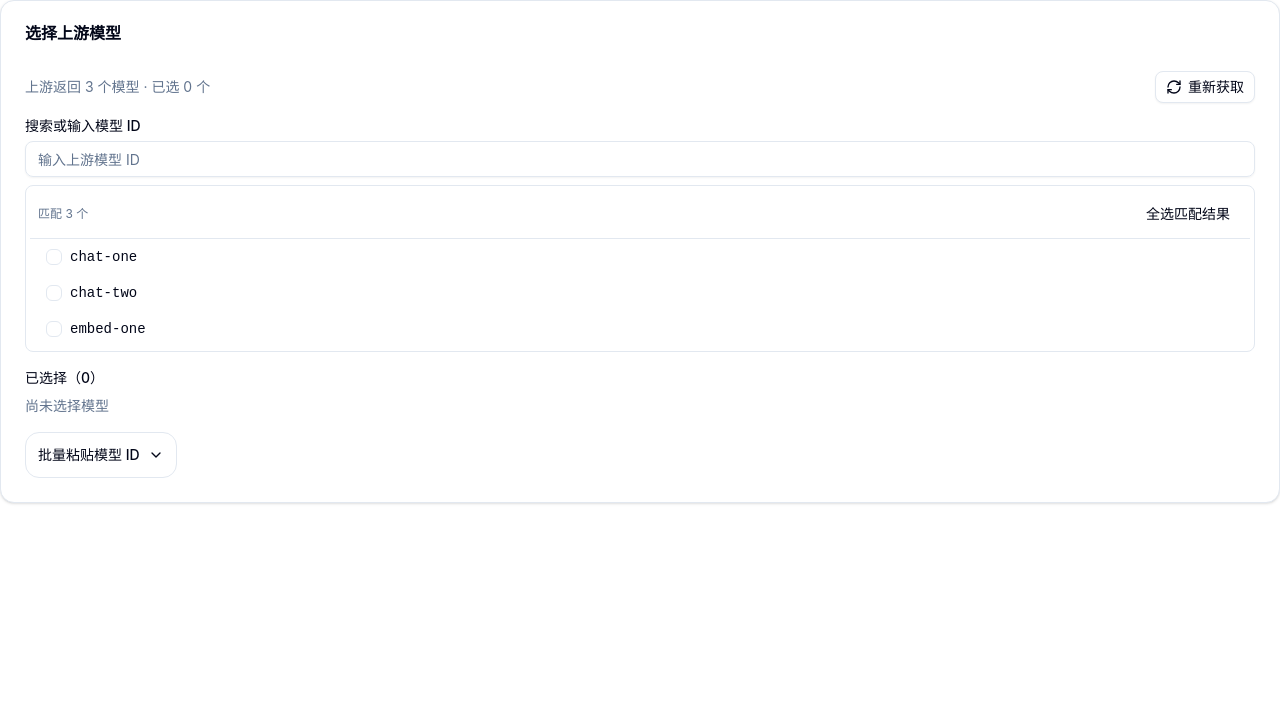
Test: shows fetched models without a search and preserves the filter while selecting multiple models
expect the button "chat-one" is shown: met, box [30,239,1250,275]
expect the text "上游返回 3 个模型 · 已选 0 个" is shown: met, box [25,77,210,97]
Type "chat" into the field labelled "搜索或输入模型 ID" at (640, 159), box [25,141,1255,177]
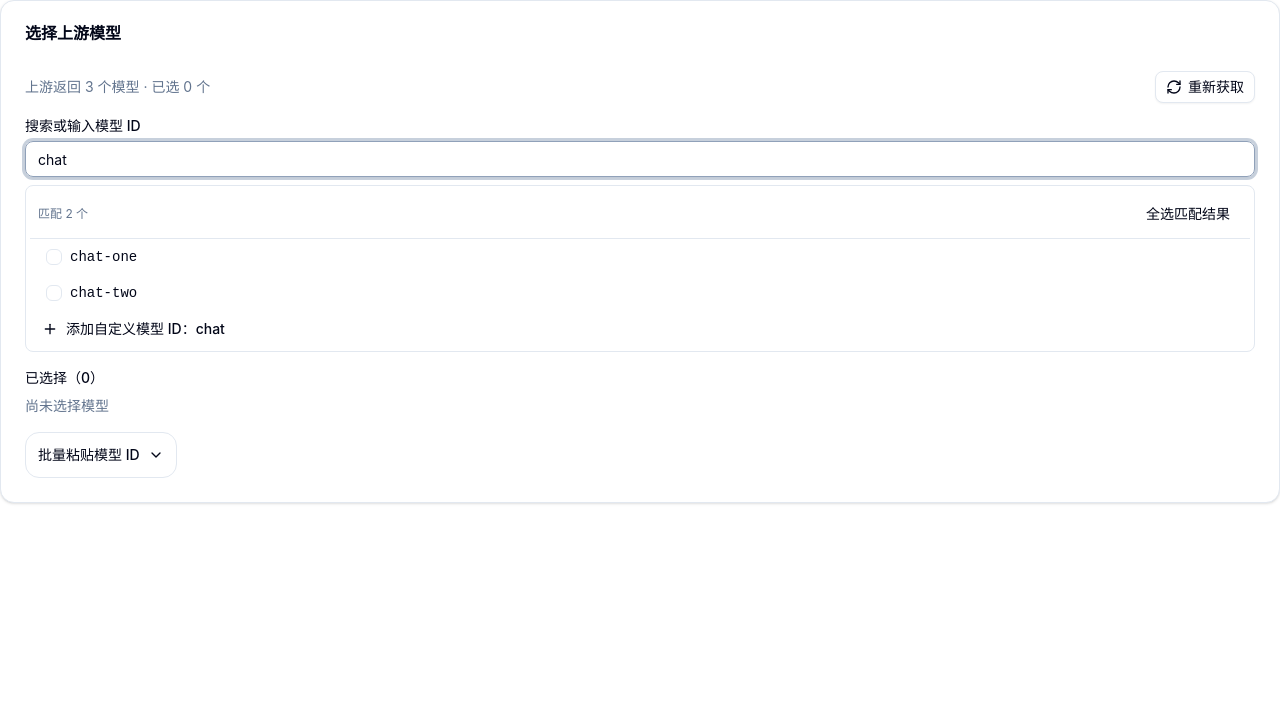
Click the button "chat-one" at (104, 257), box [30,239,1250,275]
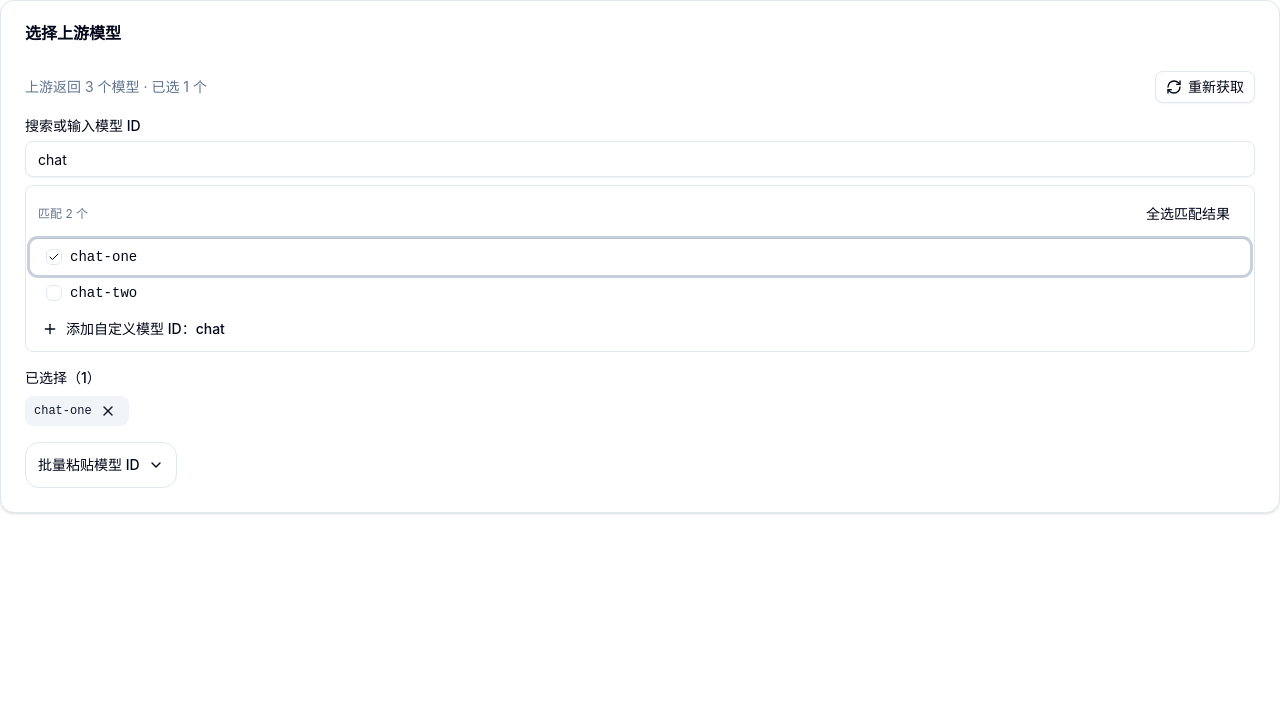
Click the button "全选匹配结果" at (1188, 214), box [1134,198,1242,230]
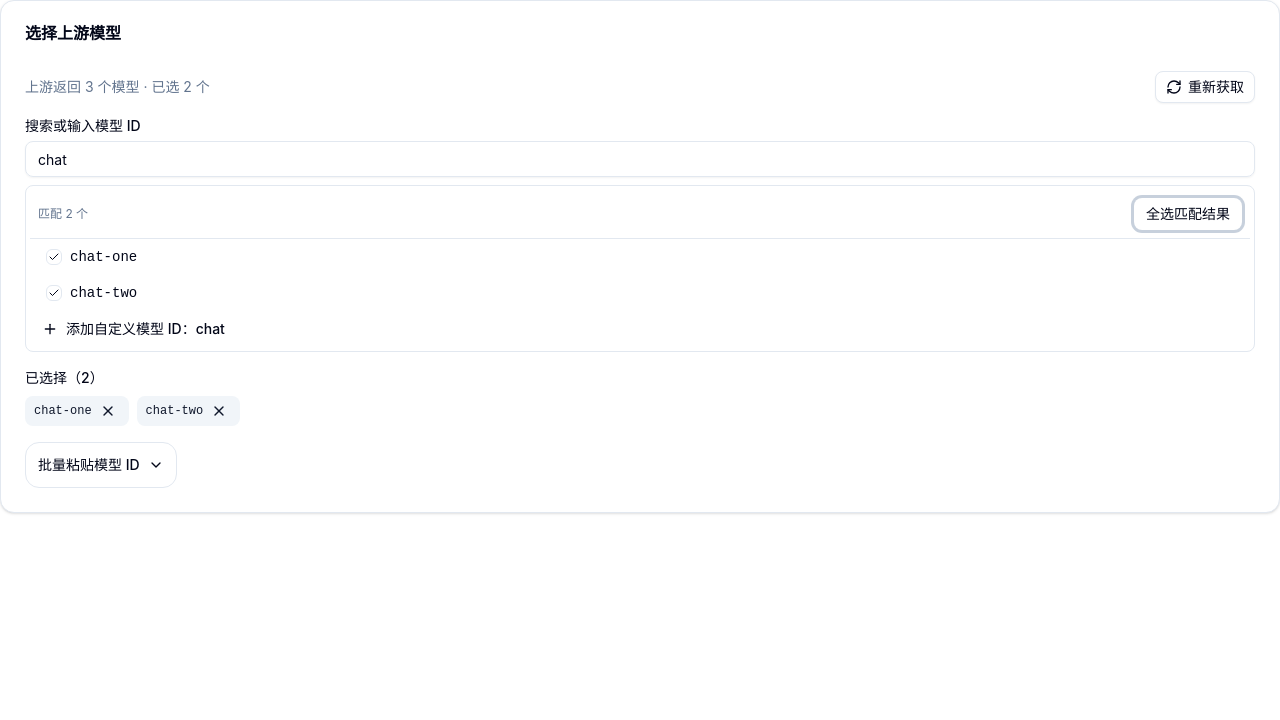
expect the text "上游返回 3 个模型 · 已选 2 个" is shown: met, box [25,77,210,97]
Click the button "chat-one" at (104, 257), box [30,239,1250,275]
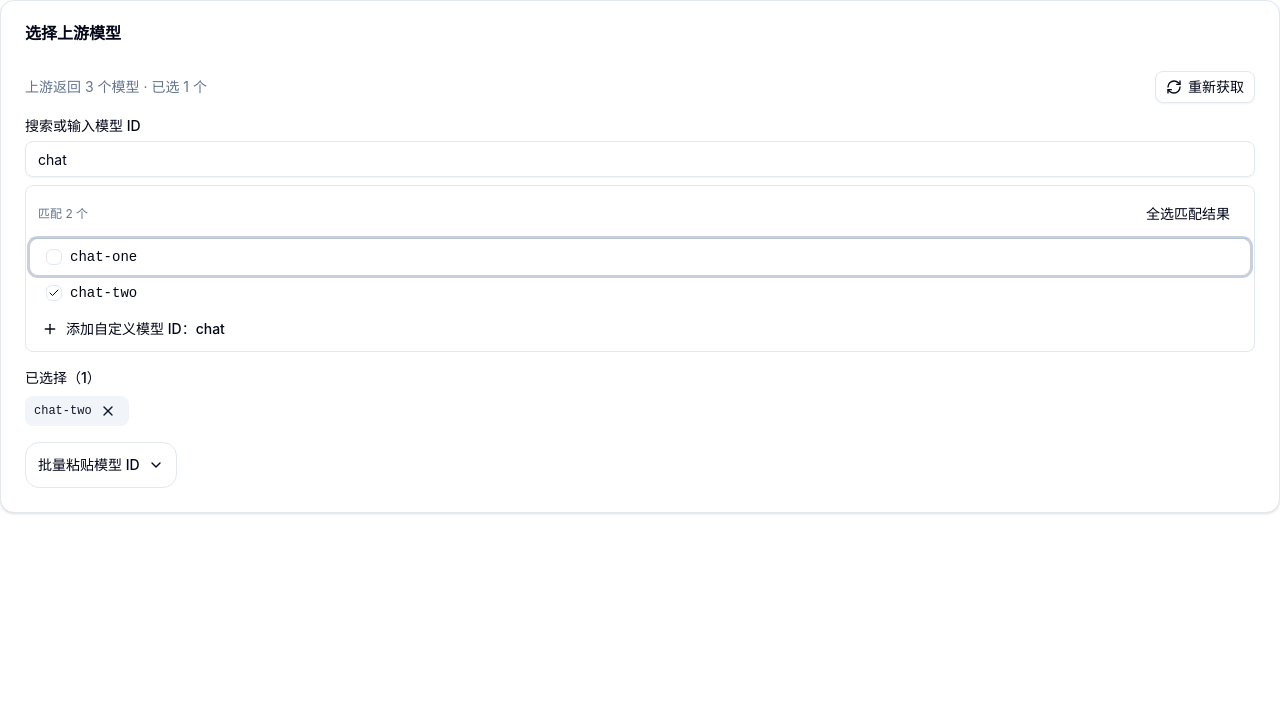
expect the text "上游返回 3 个模型 · 已选 1 个" is shown: met, box [25,77,207,97]
